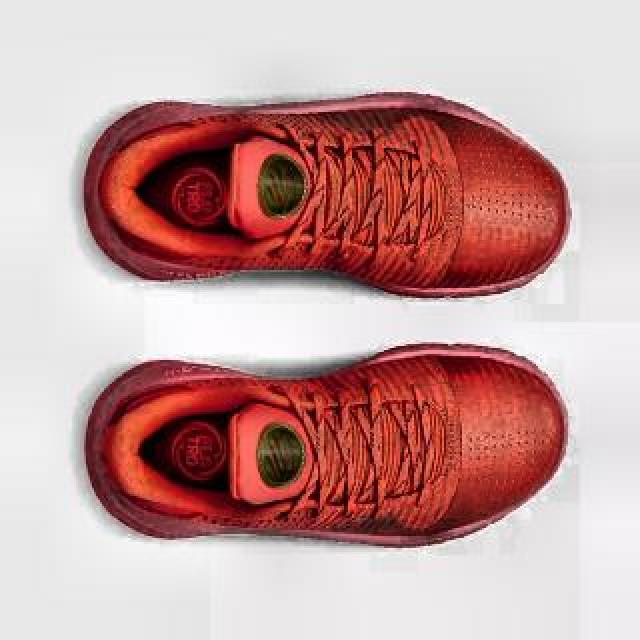shoe: (81, 91, 569, 299), (77, 340, 569, 546)
